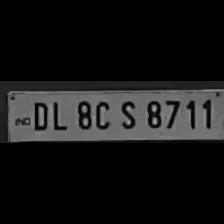1: (196, 96, 216, 130), (180, 97, 198, 131)
7: (163, 96, 181, 130)
8: (141, 96, 163, 130), (72, 97, 94, 130)
C: (92, 98, 112, 130)
D: (28, 99, 50, 131)
L: (50, 97, 68, 130)
S: (115, 98, 139, 130)
